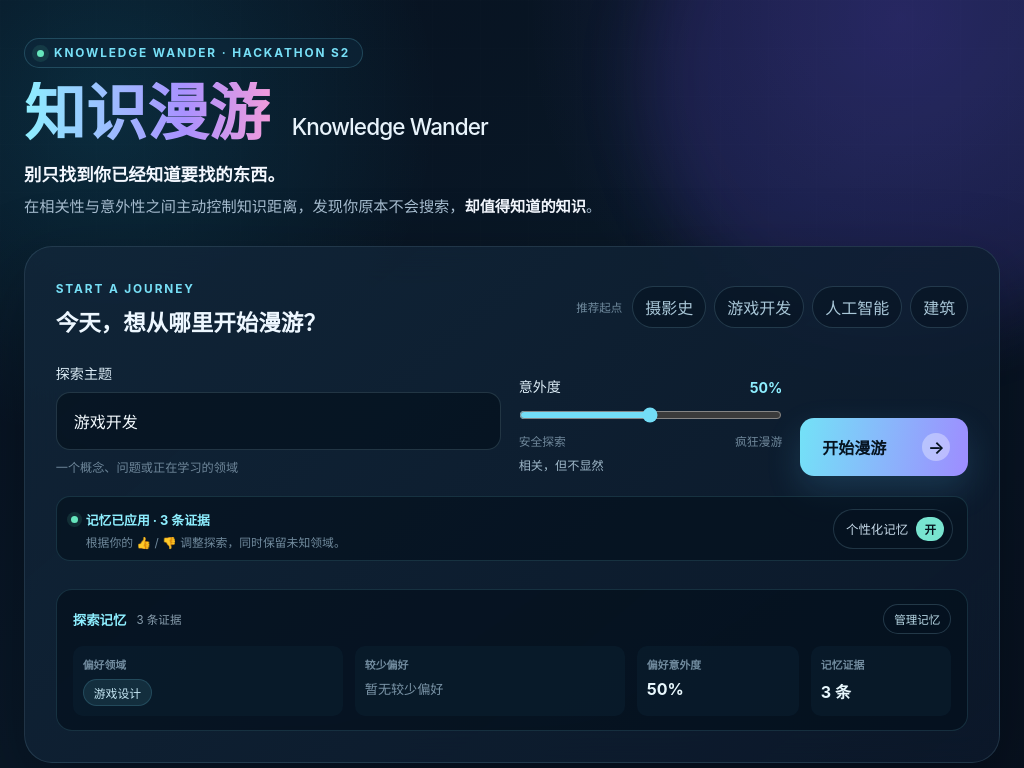
Scenario: ExploreExperience feedback synchronization › keeps a failed record and shows a retry message
expect the text "记忆已应用 · 3 条证据" is shown: met, box 71,510 -> 210,529
Click the button "管理记忆". click: (917, 619)
box: 883,604 -> 951,634
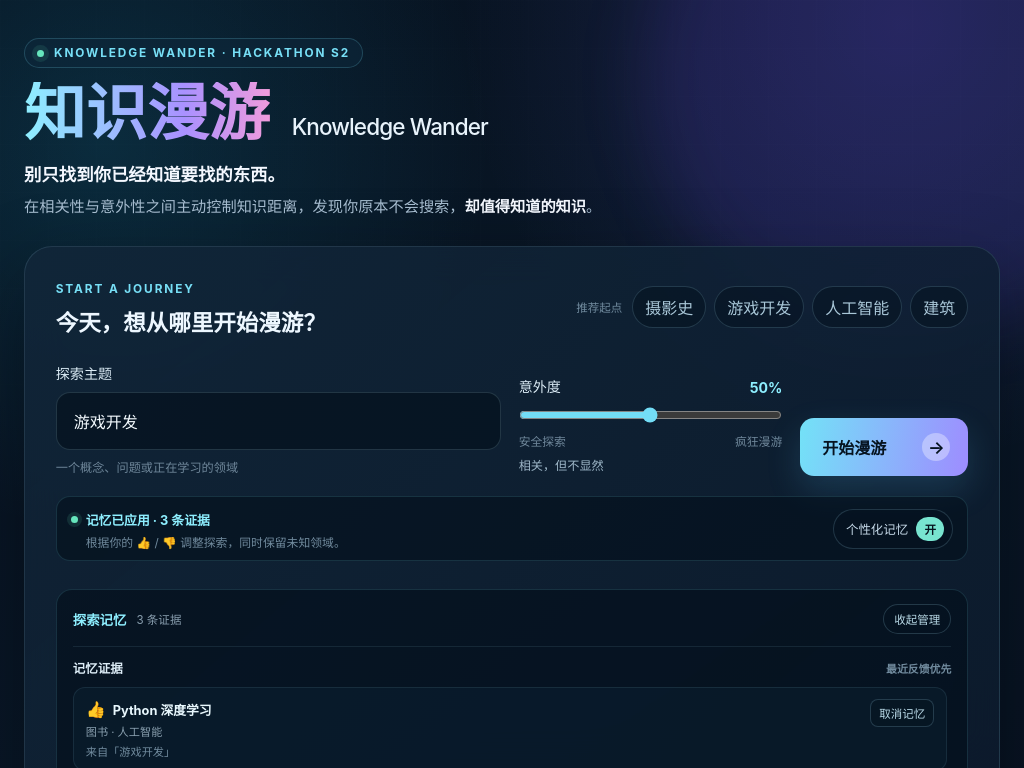
Click the button with aria-label "取消对 Python 深度学习 的记忆". click: (902, 713)
box: 870,699 -> 934,727
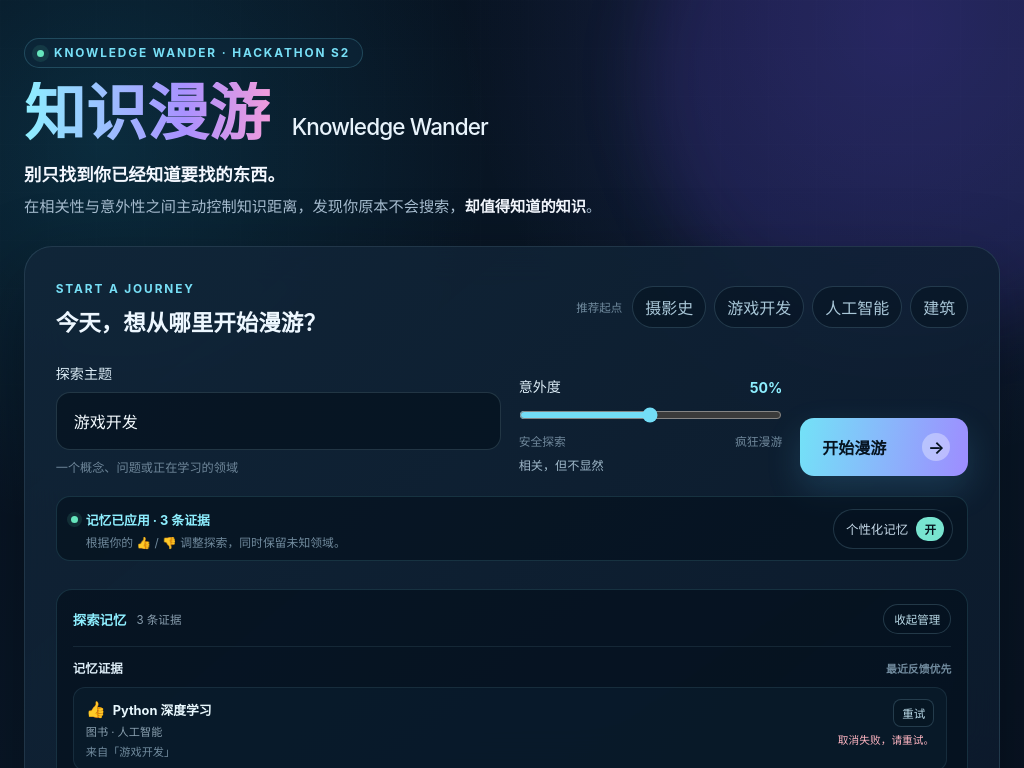
expect the text "Python 深度学习" is shown: met, box 113,700 -> 212,719
expect the text "取消失败，请重试。" is shown: met, box 838,732 -> 934,747
